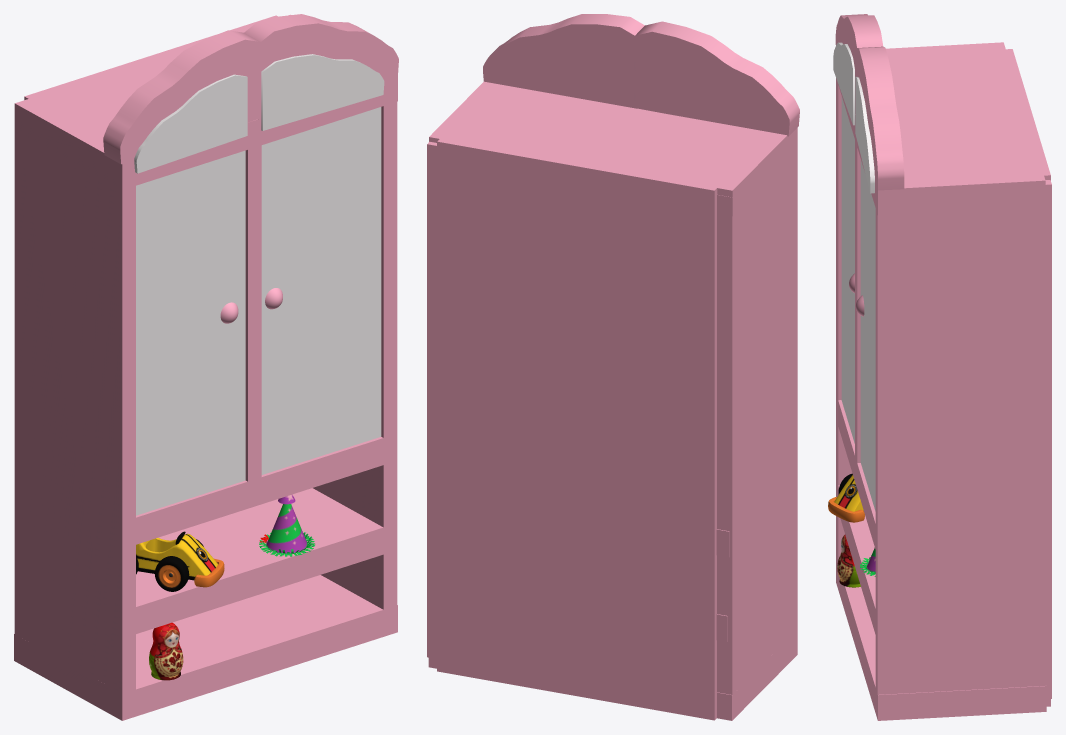
File: younger_wardrobe.glb
3 renders of one model, left to right at view 1: azimuth 30°, elevation 25°; view 2: azimuth 150°, elevation 25°; view 3: azimuth 270°, elevation 25°, orthographic. The views are drawn at different scales.
Visible parts, largest first — view 1: nodes[12], nodes[14], nodes[11], nodes[6], nodes[5], nodes[3], nodes[15], nodes[1], nodes[7], nodes[4], nodes[0], nodes[2] (+5 smaller); view 2: nodes[16], nodes[12], nodes[3], nodes[1], nodes[2], nodes[15], nodes[6]; view 3: nodes[15], nodes[3], nodes[6], nodes[14], nodes[2], nodes[11], nodes[12], nodes[13], nodes[5], nodes[1], nodes[7], nodes[4] (+4 smaller).
Boxes of the visible parts, <box> form: nodes[12]: <box>14,130,135,710</box>; nodes[14]: <box>261,107,381,474</box>; nodes[11]: <box>136,150,245,515</box>; nodes[6]: <box>14,575,397,720</box>; nodes[5]: <box>136,488,383,633</box>; nodes[3]: <box>14,14,397,189</box>; nodes[15]: <box>313,79,397,609</box>; nodes[1]: <box>103,30,260,164</box>; nodes[7]: <box>136,437,383,544</box>; nodes[4]: <box>261,54,384,130</box>; nodes[0]: <box>134,74,247,173</box>; nodes[2]: <box>244,14,398,119</box>; nodes[16]: <box>437,139,717,720</box>; nodes[12]: <box>717,151,797,694</box>; nodes[3]: <box>429,81,797,215</box>; nodes[1]: <box>634,21,799,136</box>; nodes[2]: <box>483,14,644,108</box>; nodes[15]: <box>427,141,436,658</box>; nodes[6]: <box>428,629,797,720</box>; nodes[15]: <box>875,180,1051,699</box>; nodes[3]: <box>838,42,1045,215</box>; nodes[6]: <box>836,573,1046,720</box>; nodes[14]: <box>860,159,875,511</box>; nodes[2]: <box>856,46,904,191</box>; nodes[11]: <box>841,96,854,443</box>; nodes[12]: <box>836,78,852,579</box>; nodes[13]: <box>855,140,860,463</box>; nodes[5]: <box>838,485,875,634</box>; nodes[1]: <box>835,14,883,113</box>; nodes[7]: <box>838,400,875,548</box>; nodes[4]: <box>855,76,874,193</box>.
Bounding box in the file's own units: 0.00275 × 0.00531 × 0.00176.
Materials: 20 (20 with a texture image).
